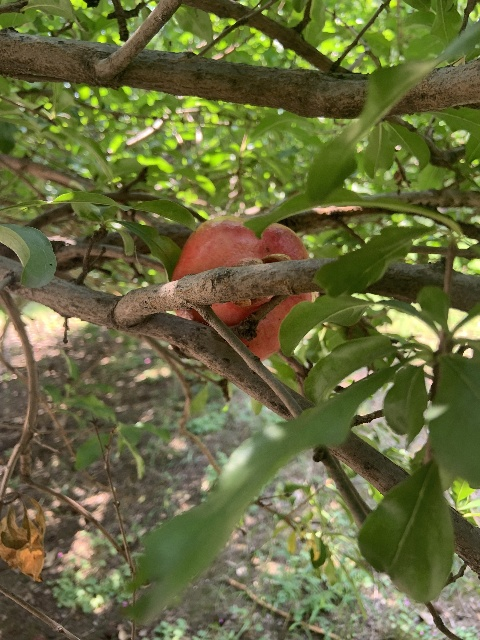ripe: (170, 216, 315, 360)
